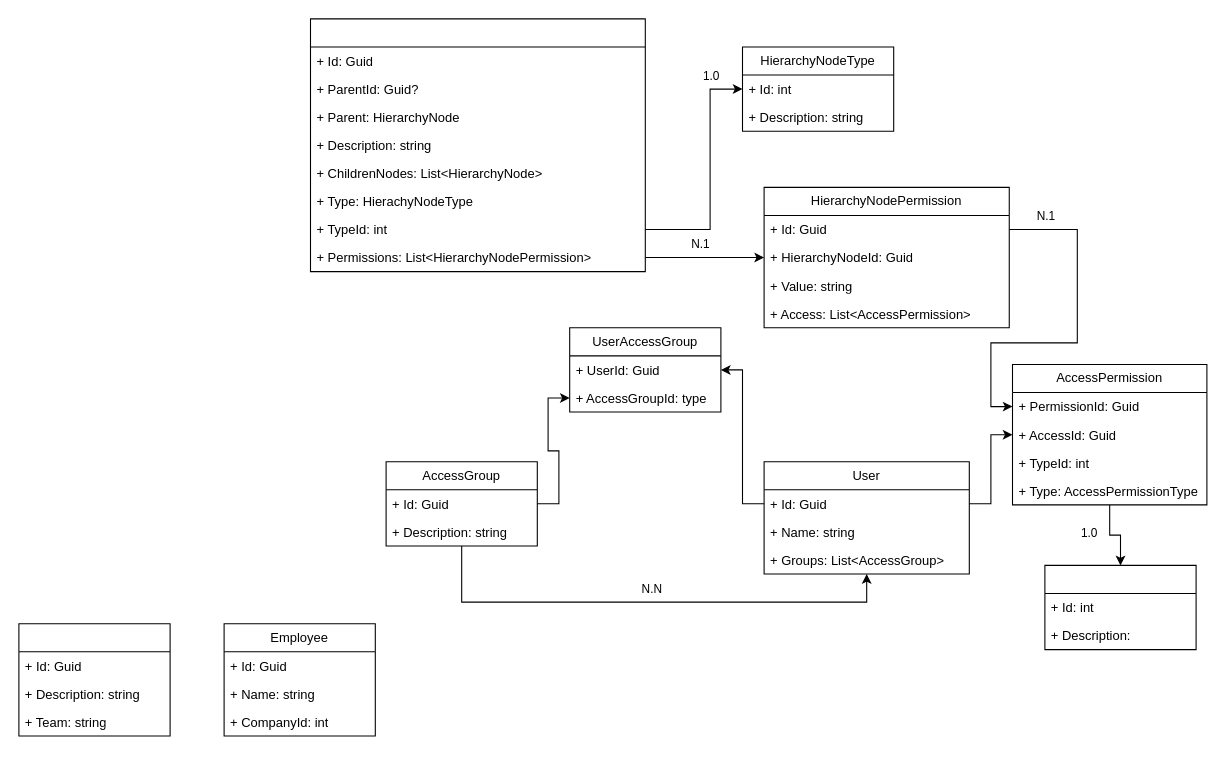
Some shapes in this 1226 by 758 pixel diagram are drawn without their labels. The shapes that lost their labels are listed below. From the top down, each one's box as (x1, y1, x2, y2) in pixels, then its label:
(309, 18, 645, 272): HiearchyNode
(1044, 564, 1196, 650): AccessPermissionType
(18, 623, 170, 736): Request
